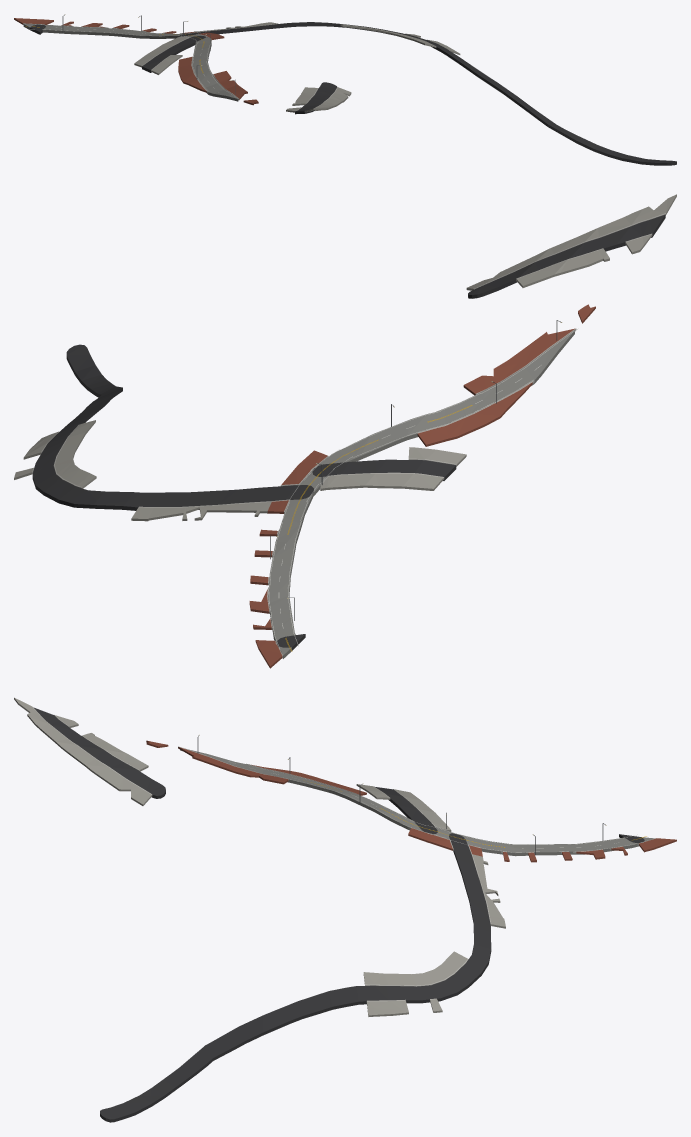
Rendered from 17-109445-59454.c7f87dcd.glb.
3 views of the same model, one above another, from view 1: azimuth 30°, elevation 25°; view 2: azimuth 150°, elevation 25°; view 3: azimuth 270°, elevation 25° (orthographic). The views are drawn at different scales.
Size of the model in its own units: 188 by 82.43 by 238.
